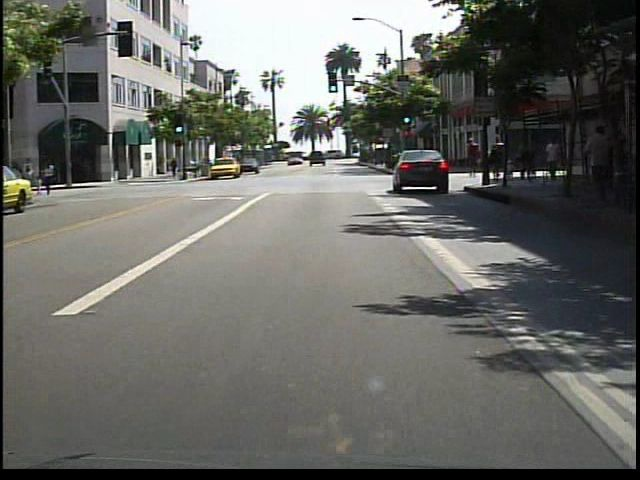person: (42, 159, 64, 199), (465, 137, 482, 185)
